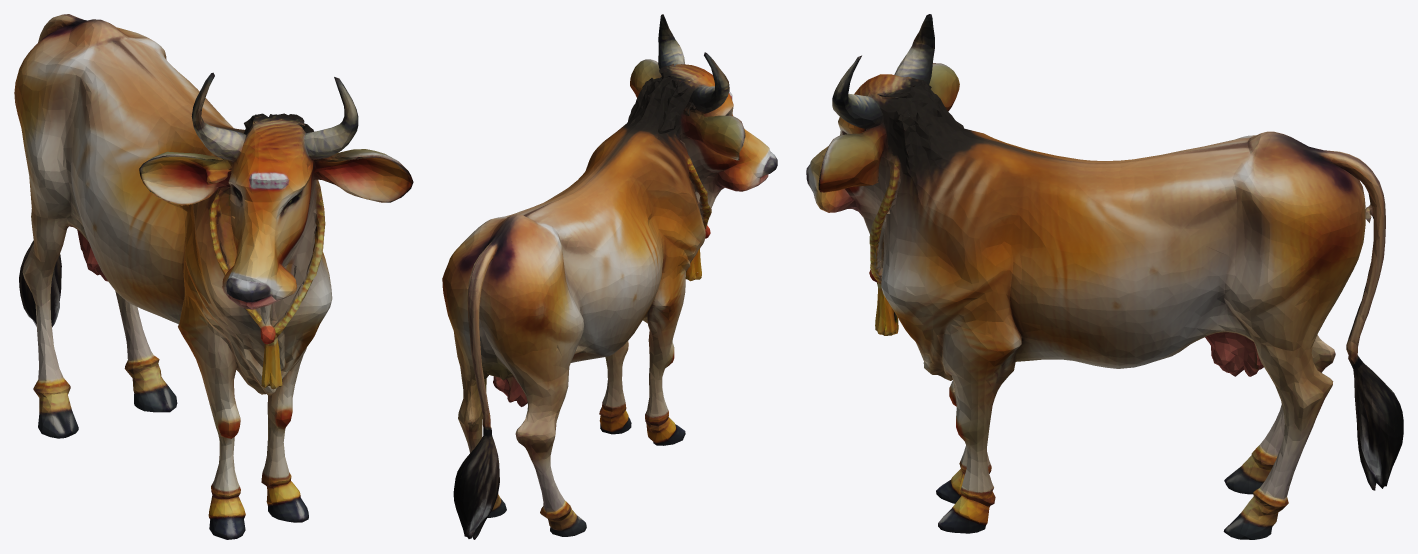
File: gaumadha.glb
3 renders of one model, left to right at view 1: azimuth 30°, elevation 25°; view 2: azimuth 150°, elevation 25°; view 3: azimuth 270°, elevation 25°, orthographic. The views are drawn at different scales.
Visible parts, largest first — view 1: world; view 2: world; view 3: world.
Boxes of the visible parts, box(x1,y1,x2,y2) form: world: box(14, 14, 413, 539); world: box(442, 14, 777, 539); world: box(806, 14, 1403, 539).
Bounding box in the file's own units: 0.3968 × 0.8655 × 0.9995.
1 material, 1 textured.
